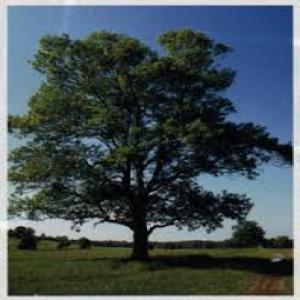Tree: (11, 22, 278, 258)
